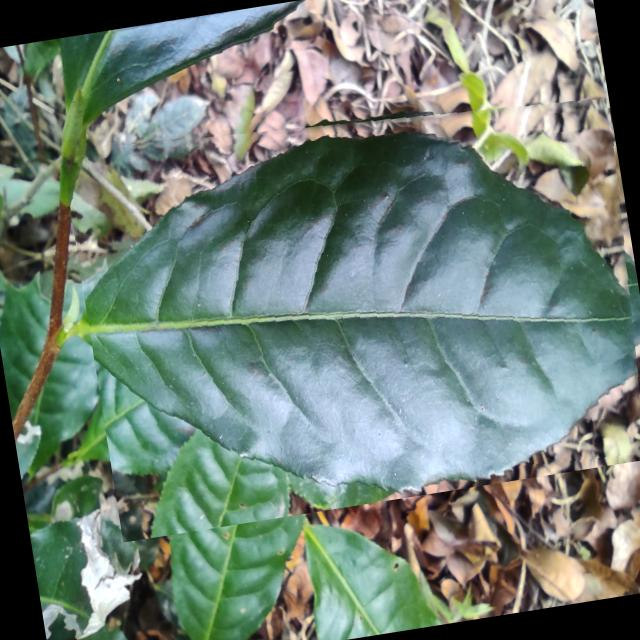Category D(7+ days, Not for Tea): (61, 64, 640, 541)
